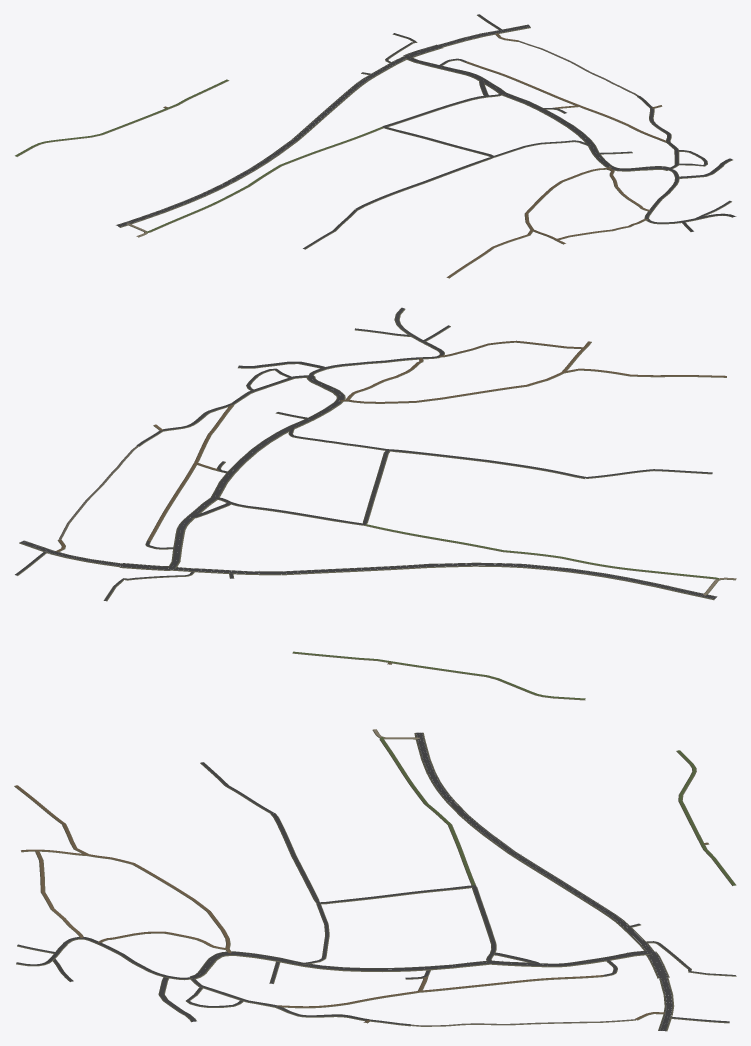
3 renders of one model, top to bottom at view 1: azimuth 30°, elevation 25°; view 2: azimuth 150°, elevation 25°; view 3: azimuth 270°, elevation 25°, orthographic. The views are drawn at different scales.
Parts seen in each view (by area): view 1: roads; view 2: roads; view 3: roads.
Part boxes in pixels (box(x1,y1,x2,y2)): roads: box(15, 14, 736, 278); roads: box(15, 307, 736, 700); roads: box(14, 729, 736, 1031).
Size of the model in its own units: 801 by 71.72 by 809.
